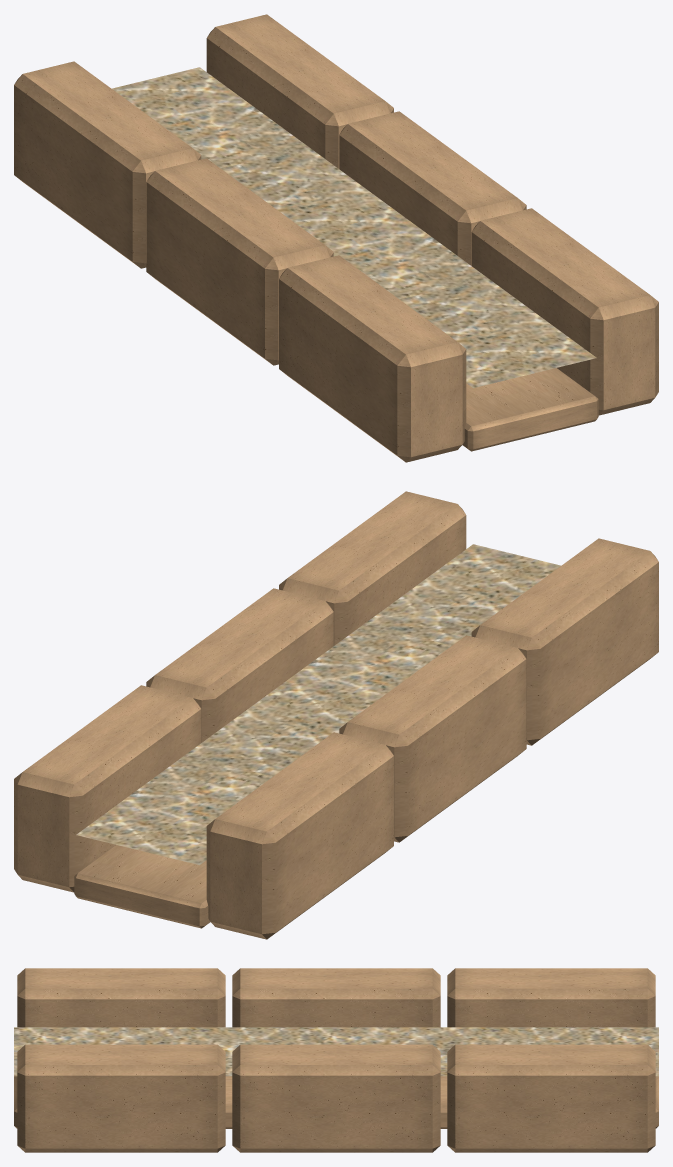
File: water_channel.glb
3 views of the same model, one above another, from view 1: azimuth 30°, elevation 25°; view 2: azimuth 150°, elevation 25°; view 3: azimuth 270°, elevation 25° (orthographic). The views are drawn at different scales.
Parts seen in each view (by area): view 1: WaterChannel, ChannelWater; view 2: WaterChannel, ChannelWater; view 3: WaterChannel, ChannelWater.
Boxes of the visible parts, box(x1,y1,x2,y2) form: WaterChannel: box(14, 14, 658, 462); ChannelWater: box(112, 67, 596, 388); WaterChannel: box(14, 491, 658, 939); ChannelWater: box(76, 544, 560, 865); WaterChannel: box(14, 968, 658, 1152); ChannelWater: box(14, 1027, 658, 1076).
Bounding box in the file's own units: 0.76 × 0.3 × 2.
Materials: 2 (2 with a texture image).
